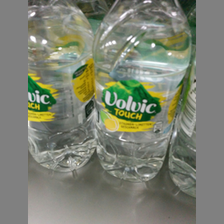water: (92, 1, 191, 182), (28, 1, 94, 172)
